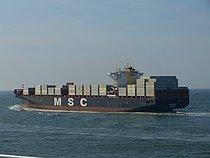Ship: (7, 61, 198, 119)
